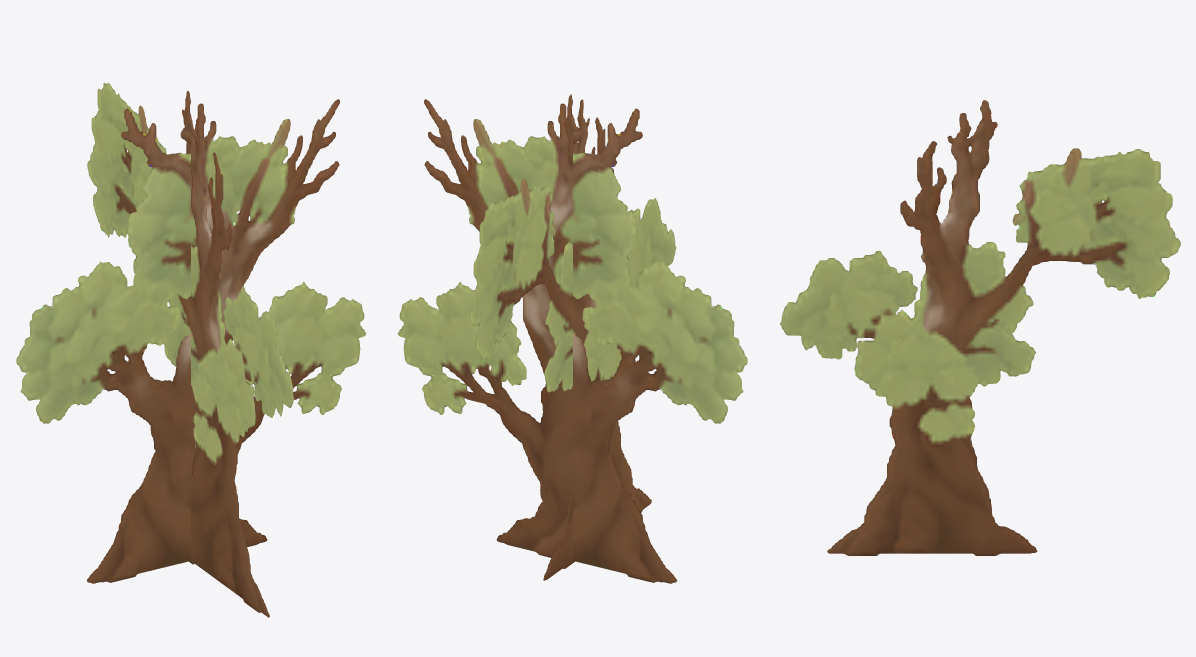
Rendered from tree-6-far.glb.
The picture shows the model from 3 angles, left to right: view 1: azimuth 30°, elevation 25°; view 2: azimuth 150°, elevation 25°; view 3: azimuth 270°, elevation 25°; orthographic projection. The views are drawn at different scales.
Size of the model in its own units: 0.7769 by 0.9995 by 0.7925.
Materials: 1 (1 with a texture image).
